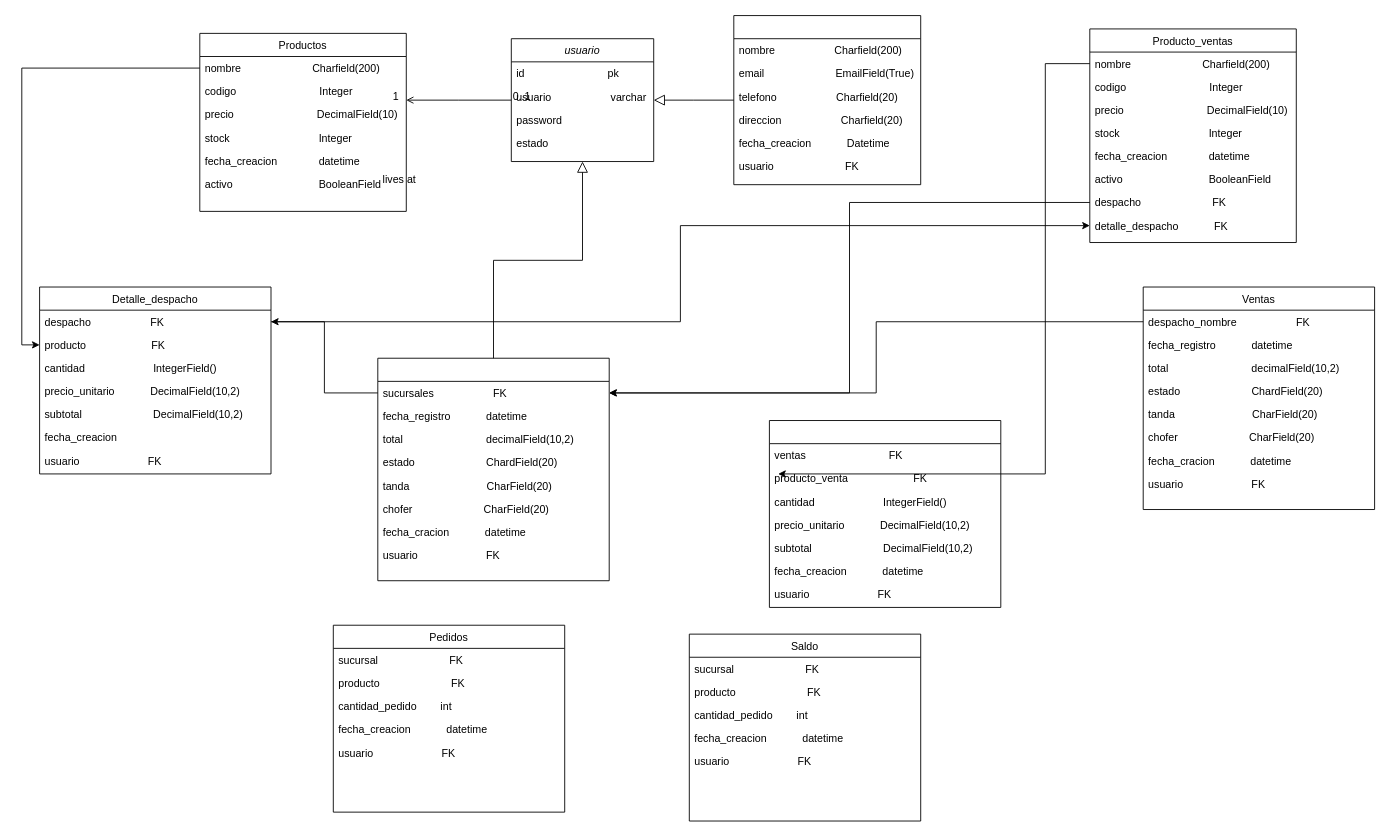
This 1390x837 diagram has some shape labels left out. The shapes that lost their labels are listed below. From the top down, each one's box as (x1, y1, x2, y2) in pixels, then its label:
(733, 15, 921, 185): Sucursales
(377, 357, 609, 581): Despacho
(769, 420, 1001, 607): Detalle_venta
